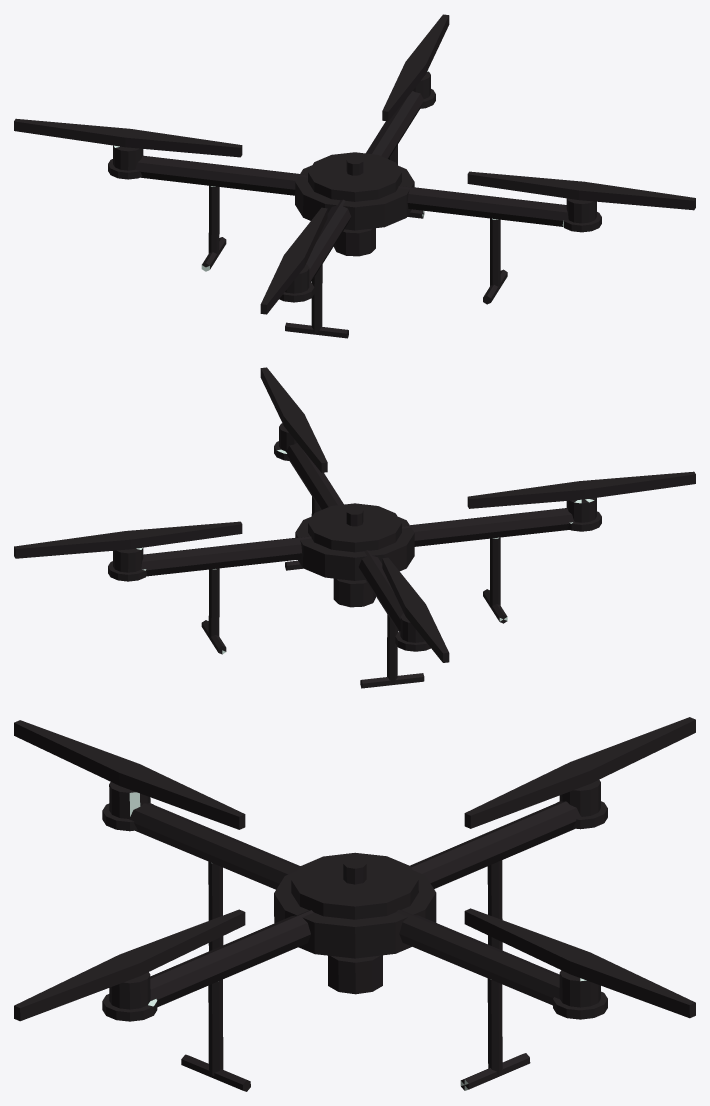
The model's file is Dron2.fbx.
The picture shows the model from 3 angles, top to bottom: view 1: azimuth 30°, elevation 25°; view 2: azimuth 150°, elevation 25°; view 3: azimuth 270°, elevation 25°; orthographic projection. The views are drawn at different scales.
Visible parts, largest first — view 1: dron; view 2: dron; view 3: dron.
Part boxes in pixels (x1,y1,x2,y2): dron: (14, 14, 695, 338); dron: (14, 367, 695, 688); dron: (14, 717, 695, 1091).
Size of the model in its own units: 235 by 60.62 by 235.
